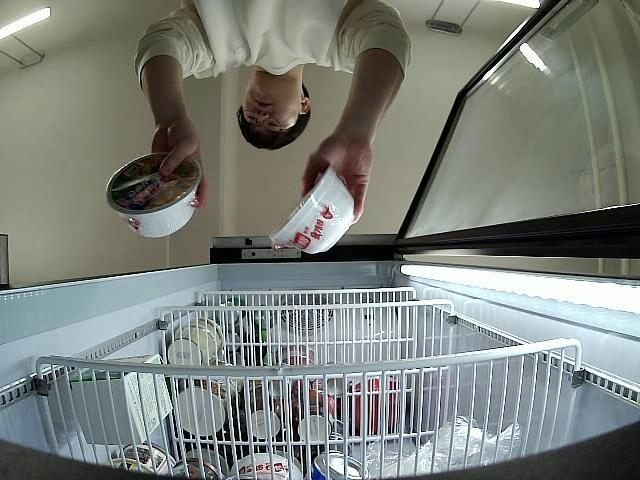09_yukGaeJang: (106, 152, 202, 238), (270, 164, 354, 254)
